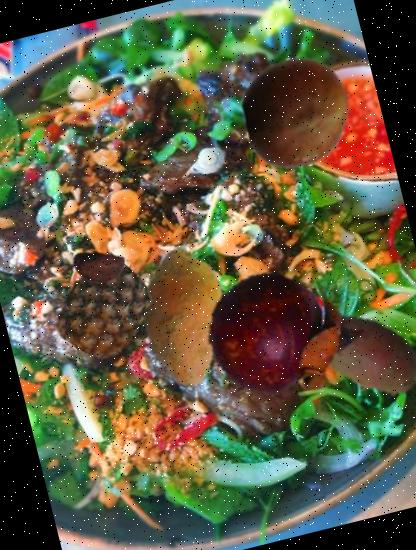Chestnut: (66, 236, 130, 300)
Mangostan: (190, 248, 372, 430)
Nut: (231, 46, 364, 179)
Pineapple: (45, 250, 163, 368)
Potato: (96, 229, 272, 406), (270, 264, 416, 435)
